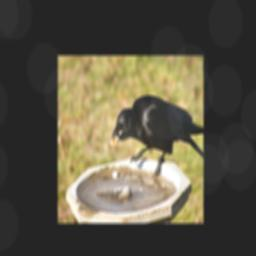Crow: (110, 94, 203, 179)
